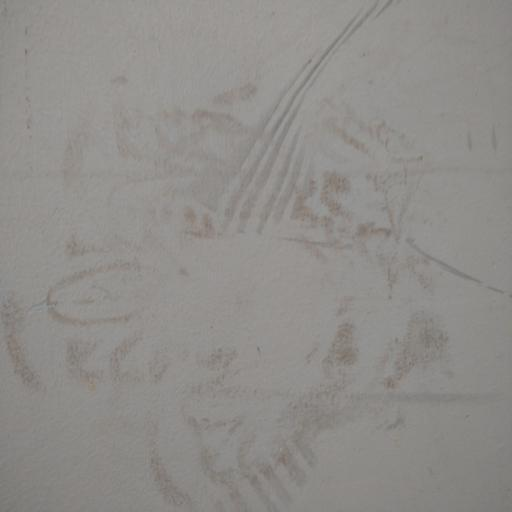stain: (17, 35, 512, 512)
